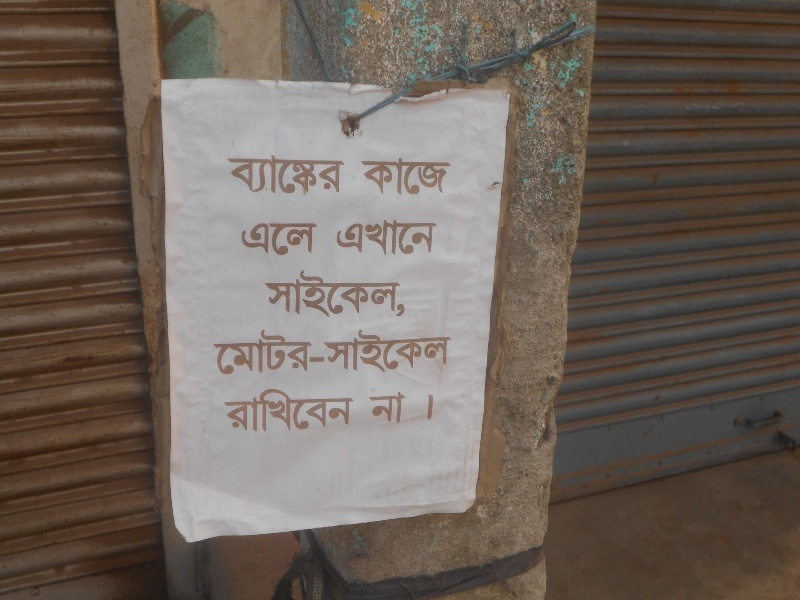text: (273, 269, 288, 318), (289, 269, 304, 318), (305, 269, 320, 318), (321, 269, 336, 318), (337, 269, 352, 318), (353, 269, 368, 318), (369, 269, 384, 318), (385, 269, 400, 318), (225, 328, 240, 375), (241, 328, 256, 375), (257, 328, 272, 375), (273, 328, 288, 375), (289, 328, 304, 375), (305, 328, 320, 375), (321, 328, 336, 375), (337, 328, 352, 375), (353, 328, 368, 375), (369, 328, 384, 375), (385, 328, 400, 375), (401, 328, 416, 375), (417, 328, 432, 375), (433, 328, 448, 375), (225, 389, 240, 433), (241, 389, 256, 433), (257, 389, 272, 433), (273, 389, 288, 433), (289, 389, 304, 433), (305, 389, 320, 433), (321, 389, 336, 433), (337, 389, 352, 433), (241, 155, 256, 195), (257, 155, 272, 195), (273, 155, 288, 195), (289, 155, 304, 195), (305, 155, 320, 195), (321, 155, 336, 195), (369, 158, 384, 196), (385, 158, 400, 196), (401, 158, 416, 196), (417, 158, 432, 196), (433, 158, 448, 196), (337, 218, 352, 256), (353, 218, 368, 256), (369, 218, 384, 256), (385, 218, 400, 256), (401, 218, 416, 256), (417, 218, 432, 256), (369, 390, 384, 425), (385, 390, 400, 425), (227, 155, 240, 195), (213, 328, 224, 375), (241, 222, 256, 256), (257, 222, 272, 256), (273, 222, 288, 256), (289, 222, 304, 256), (305, 222, 318, 256), (264, 269, 272, 318), (337, 155, 344, 195), (401, 269, 406, 318), (362, 158, 368, 196), (401, 390, 407, 425), (426, 390, 432, 422), (433, 218, 438, 256), (449, 328, 452, 375), (333, 218, 336, 256), (353, 389, 355, 433), (449, 158, 451, 196), (433, 390, 434, 422)
